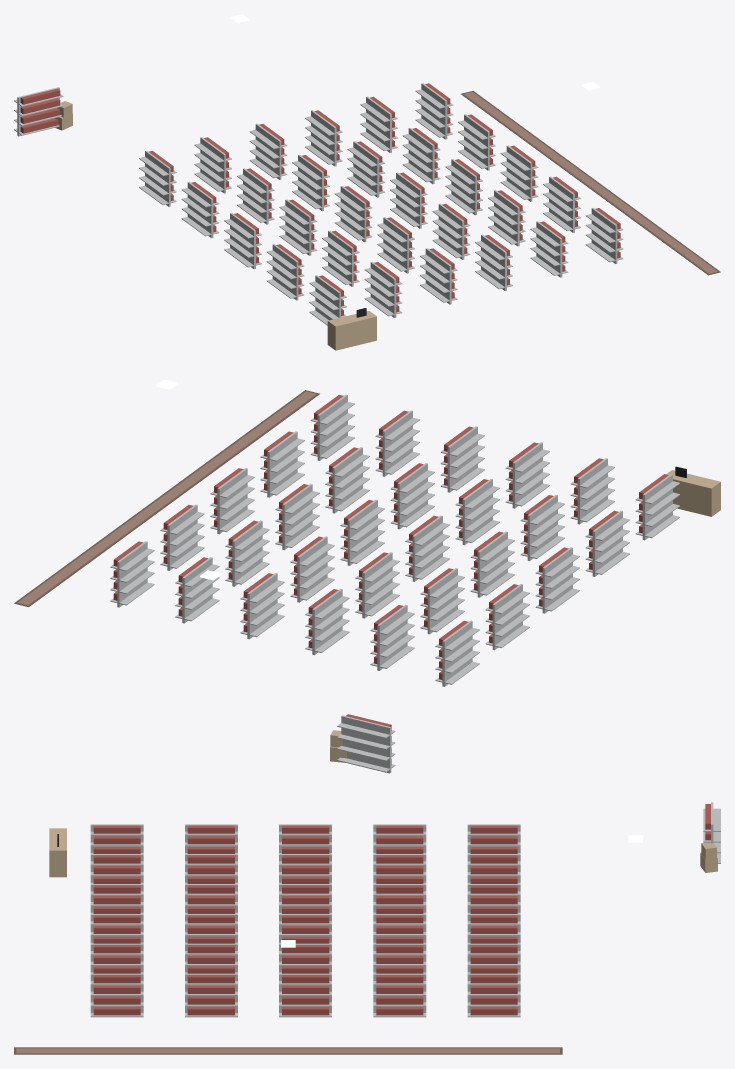
Rendered from fine-s0.glb.
3 views of the same model, one above another, from view 1: azimuth 30°, elevation 25°; view 2: azimuth 150°, elevation 25°; view 3: azimuth 270°, elevation 25° (orthographic). The views are drawn at different scales.
Visible parts, largest first — view 1: soft-s0, shelving.000, shop-counter.000, shelf.016, shelf.024, shelf.027, shelf.021, shelf.025, shelf.003, shelf.012, shelf.001, shelf.007 (+21 smaller); view 2: soft-s0, shelving.000, shelf.026, shelf.015, shelf.010, shelf.025, shelf.021, shelf.019, shelf.007, shelf.028, shelf.000, shelf.003 (+21 smaller); view 3: soft-s0, shelf.025, shelf.026, shelf.029, shelf.027, shelf.028, shelf.020, shelf.021, shelf.024, shelf.023, shelf.000, shelf.001 (+22 smaller).
Part boxes in pixels (box(x1,y1,x2,y2)): soft-s0: box(461, 91, 720, 275); shelving.000: box(14, 87, 63, 136); shop-counter.000: box(327, 308, 376, 350); shelf.016: box(347, 141, 385, 197); shelf.024: box(530, 221, 568, 277); shelf.027: box(500, 145, 538, 201); shelf.021: box(402, 128, 440, 184); shelf.025: box(415, 83, 453, 139); shelf.003: box(266, 244, 304, 300); shelf.012: box(334, 186, 372, 242); shelf.001: box(181, 181, 219, 238); shelf.007: box(279, 199, 317, 255); soft-s0: box(14, 390, 319, 606); shelving.000: box(337, 714, 395, 773); shelf.026: box(160, 504, 204, 570); shelf.015: box(240, 573, 284, 639); shelf.010: box(305, 588, 349, 655); shelf.025: box(110, 541, 154, 607); shelf.021: box(225, 520, 269, 586); shelf.019: box(440, 426, 484, 492); shelf.007: box(470, 531, 514, 597); shelf.028: box(260, 431, 304, 497); shelf.000: box(435, 620, 479, 686); shelf.003: box(585, 510, 629, 576); soft-s0: box(14, 1047, 562, 1054); shelf.025: box(467, 973, 520, 1017); shelf.026: box(373, 973, 426, 1017); shelf.029: box(90, 973, 143, 1017); shelf.027: box(279, 973, 331, 1017); shelf.028: box(185, 973, 237, 1017); shelf.020: box(467, 943, 520, 973); shelf.021: box(373, 943, 426, 973); shelf.024: box(90, 943, 143, 973); shelf.023: box(185, 943, 237, 973); shelf.000: box(467, 824, 520, 853); shelf.001: box(373, 824, 426, 853).
Size of the model in its own units: 16.83 by 4.05 by 24.
